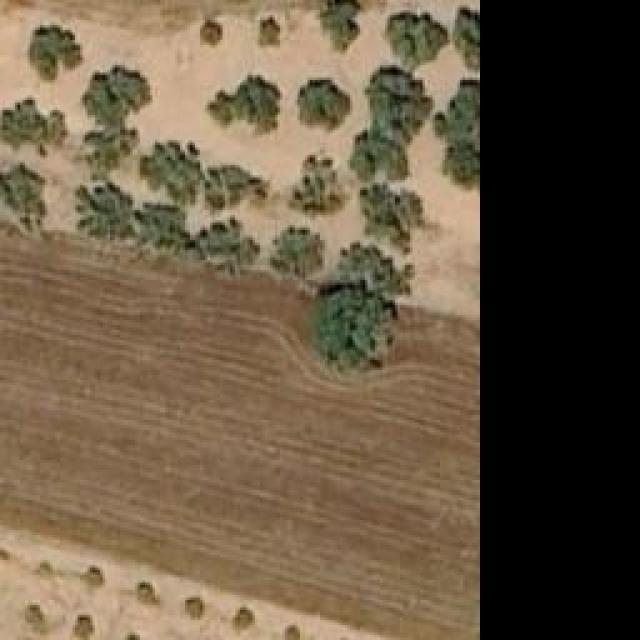Tree: (315, 283, 393, 368), (360, 183, 438, 256), (368, 68, 433, 143), (210, 73, 283, 136), (0, 95, 68, 158), (140, 143, 208, 203), (0, 162, 50, 240), (443, 80, 478, 185), (288, 155, 343, 220), (90, 68, 153, 123), (385, 13, 448, 66), (75, 183, 135, 238), (30, 22, 83, 80), (138, 203, 193, 258), (298, 78, 353, 131), (77, 128, 135, 178), (198, 218, 253, 268), (210, 165, 268, 210), (272, 230, 320, 280), (320, 0, 360, 45), (455, 5, 478, 75), (70, 568, 105, 593), (25, 605, 53, 635), (258, 18, 281, 48), (73, 615, 96, 640), (138, 583, 161, 606), (198, 20, 221, 43), (185, 598, 205, 621), (235, 608, 253, 628), (285, 625, 300, 640)
